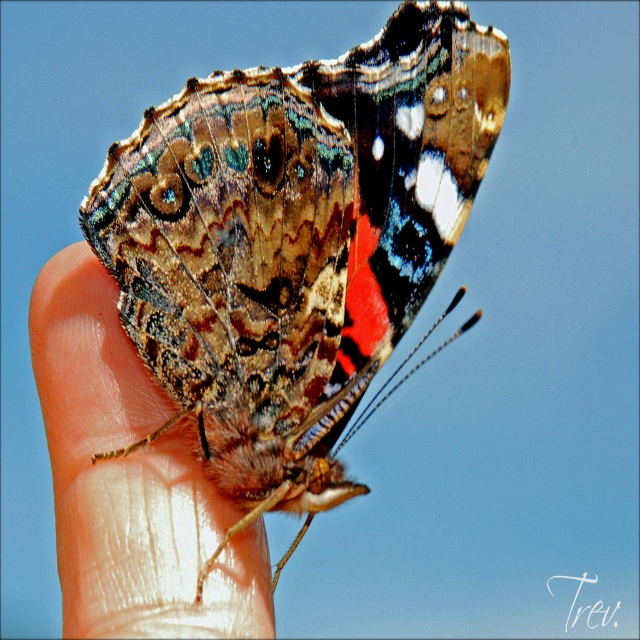Butterfly: (61, 0, 553, 634)
